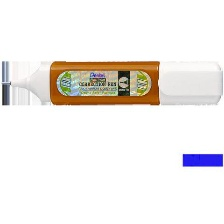correction_fluid: (0, 57, 224, 108)
